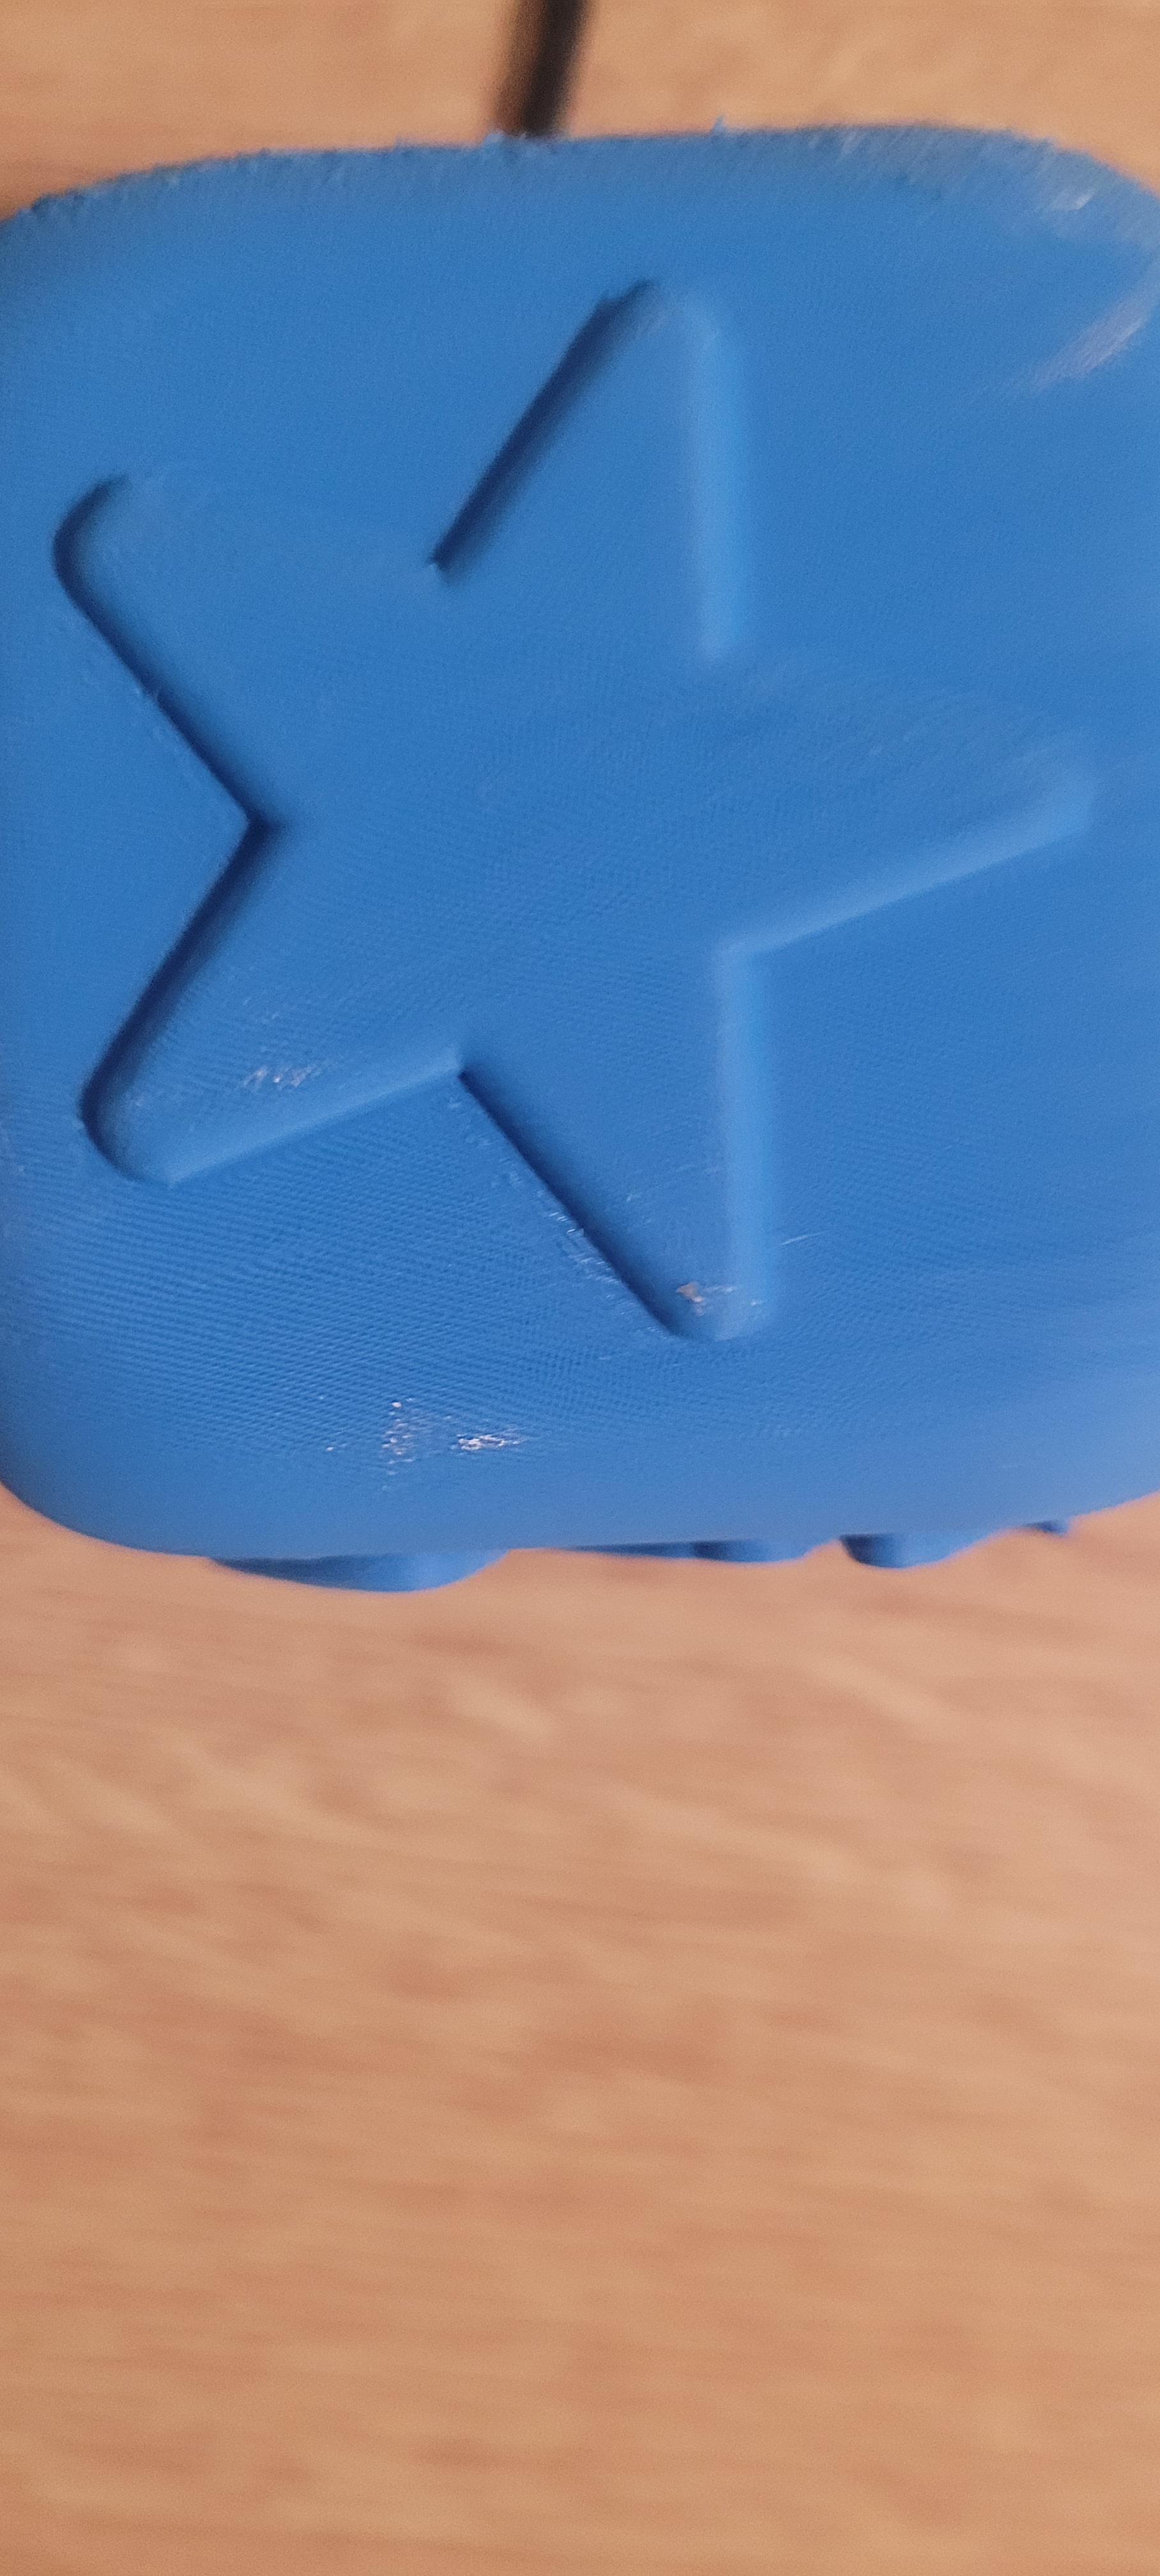Star: (20, 268, 1109, 1360)
